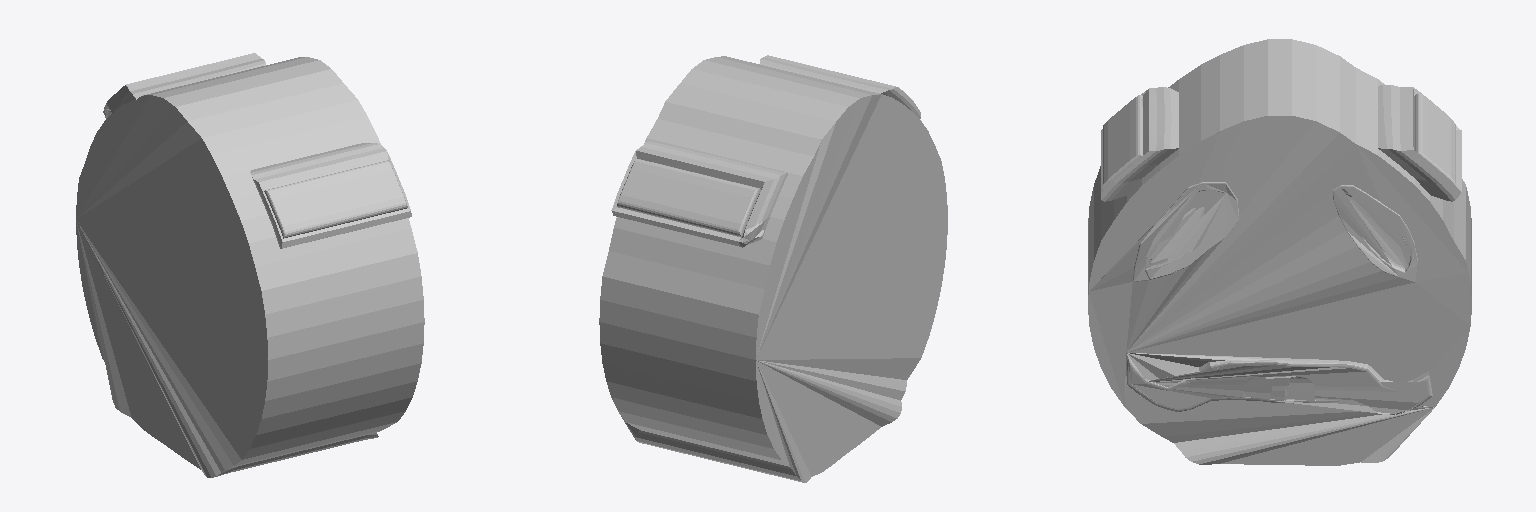
File: nahodkaglavanaluv.obj
3 renders of one model, left to right at view 1: azimuth 30°, elevation 25°; view 2: azimuth 150°, elevation 25°; view 3: azimuth 270°, elevation 25°, orthographic.
Visible parts, largest first — view 1: Cylinder; view 2: Cylinder; view 3: Cylinder.
Boxes of the visible parts, x1=… form: Cylinder: x1=76, y1=53, x2=424, y2=477; Cylinder: x1=599, y1=55, x2=947, y2=482; Cylinder: x1=1088, y1=39, x2=1471, y2=465.
Size of the model in its own units: 1.07 by 2 by 2.